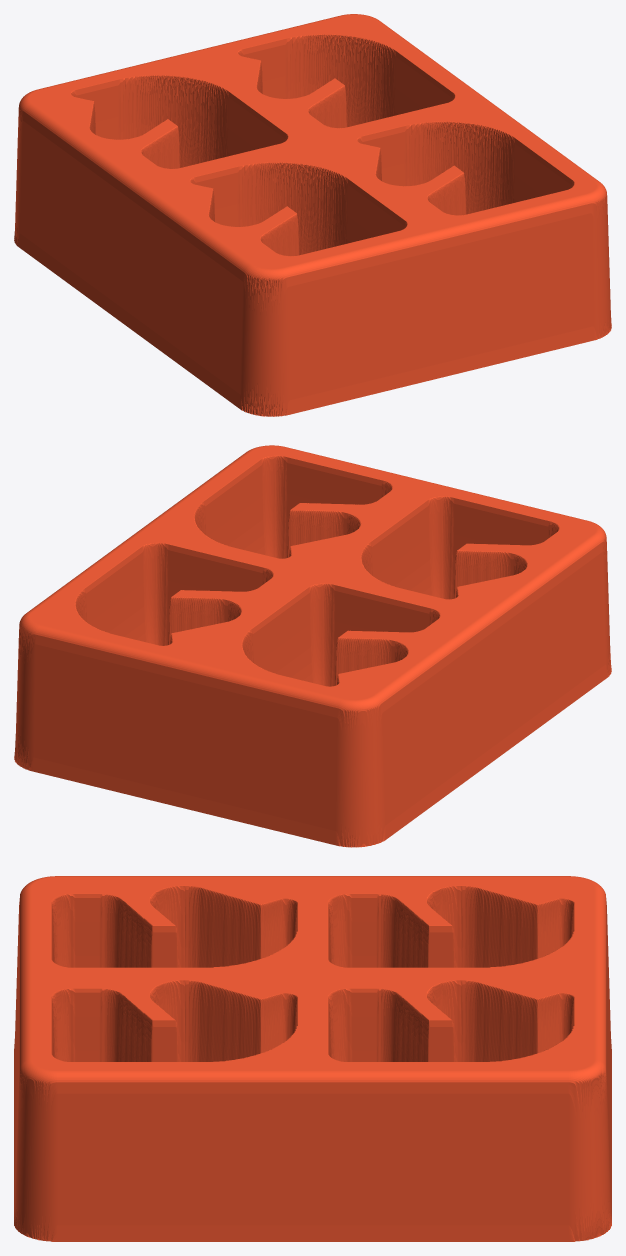
The model's file is mold.glb.
The picture shows the model from 3 angles, top to bottom: view 1: azimuth 30°, elevation 25°; view 2: azimuth 150°, elevation 25°; view 3: azimuth 270°, elevation 25°; orthographic projection. The views are drawn at different scales.
Visible parts, largest first — view 1: geometry_0; view 2: geometry_0; view 3: geometry_0.
Part boxes in pixels (box(x1,y1,x2,y2)): geometry_0: box(14, 14, 611, 416); geometry_0: box(14, 445, 611, 847); geometry_0: box(14, 876, 611, 1241).
Size of the model in its own units: 0.1027 by 0.0377 by 0.1248.
